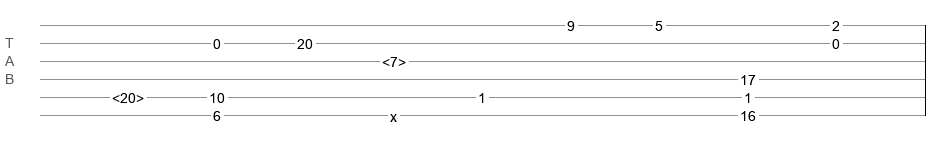0: (213, 36, 221, 46), (832, 36, 840, 46)
1: (478, 90, 486, 100), (744, 90, 752, 100)
10: (209, 90, 225, 100)
16: (740, 108, 756, 118)
17: (740, 72, 756, 82)
2: (832, 18, 840, 28)
20: (297, 36, 313, 46)
5: (655, 18, 663, 28)
6: (213, 108, 221, 118)
9: (567, 18, 575, 28)
harmonic: (112, 90, 144, 100), (382, 54, 406, 64)
x: (390, 109, 397, 117)
